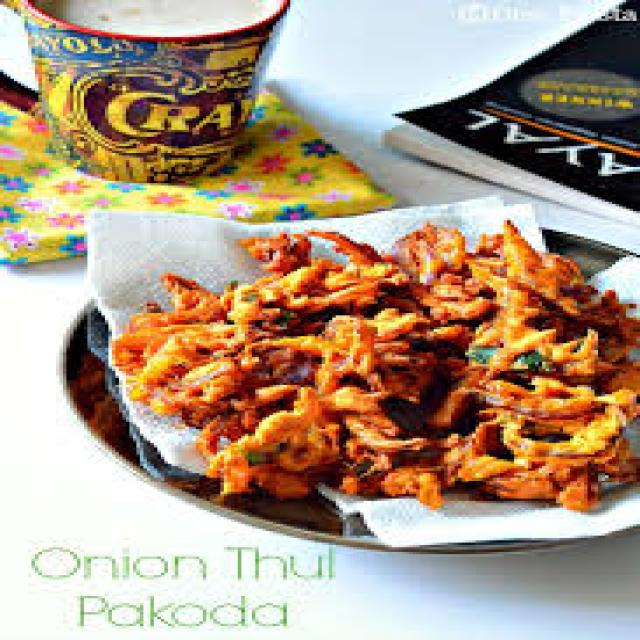BAJI: (121, 217, 637, 516)
